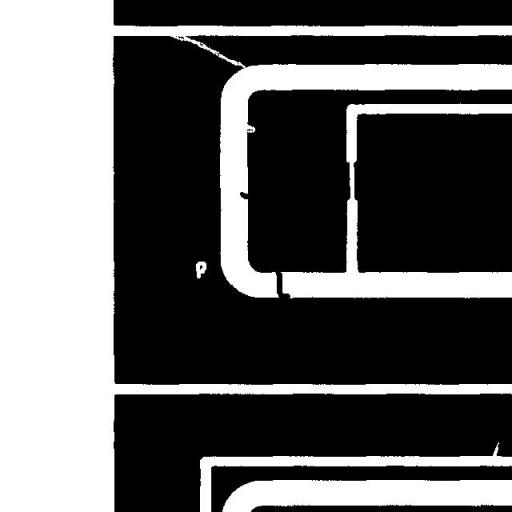mousebite: (237, 117, 262, 140)
open: (162, 26, 258, 78)
pin-hole: (188, 254, 214, 286)
short: (268, 264, 298, 306)
spur: (232, 184, 258, 206)
